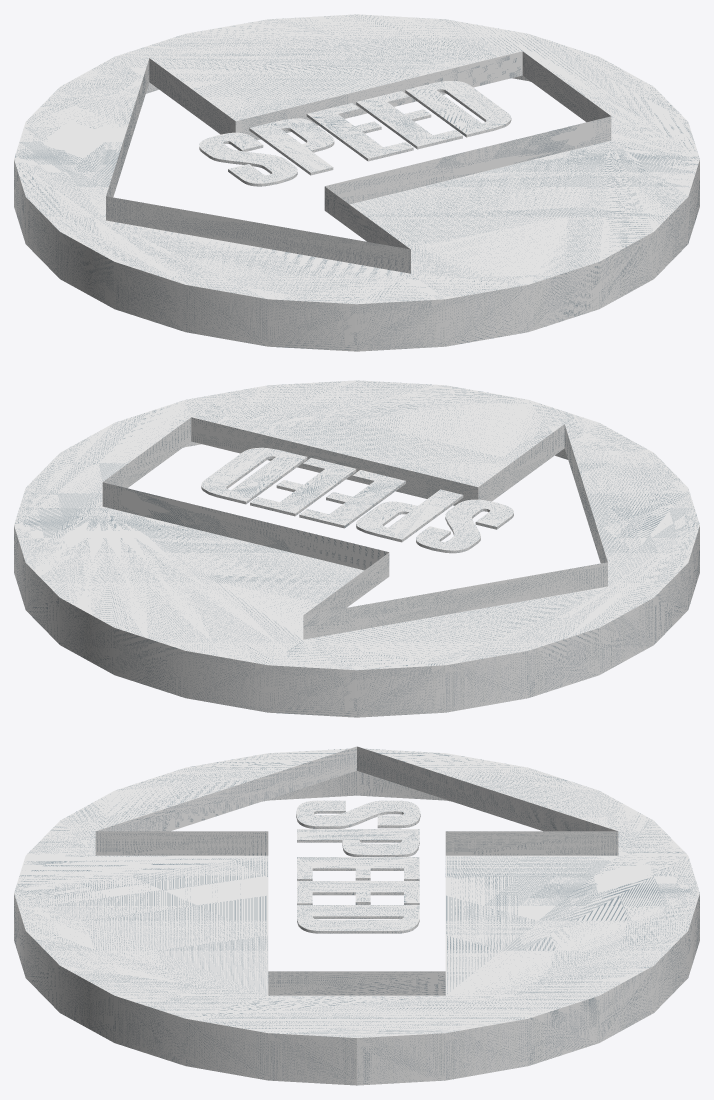
Rendered from SpeedPowerUp.fbx.
3 renders of one model, top to bottom at view 1: azimuth 30°, elevation 25°; view 2: azimuth 150°, elevation 25°; view 3: azimuth 270°, elevation 25°, orthographic.
Visible parts, largest first — view 1: Group1; view 2: Group1; view 3: Group1.
Part boxes in pixels (bbox=[...]): Group1: bbox=[14, 14, 699, 351]; Group1: bbox=[14, 380, 699, 717]; Group1: bbox=[14, 746, 699, 1085].
Bounding box in the file's own units: 6.72 × 0.8049 × 6.72.
